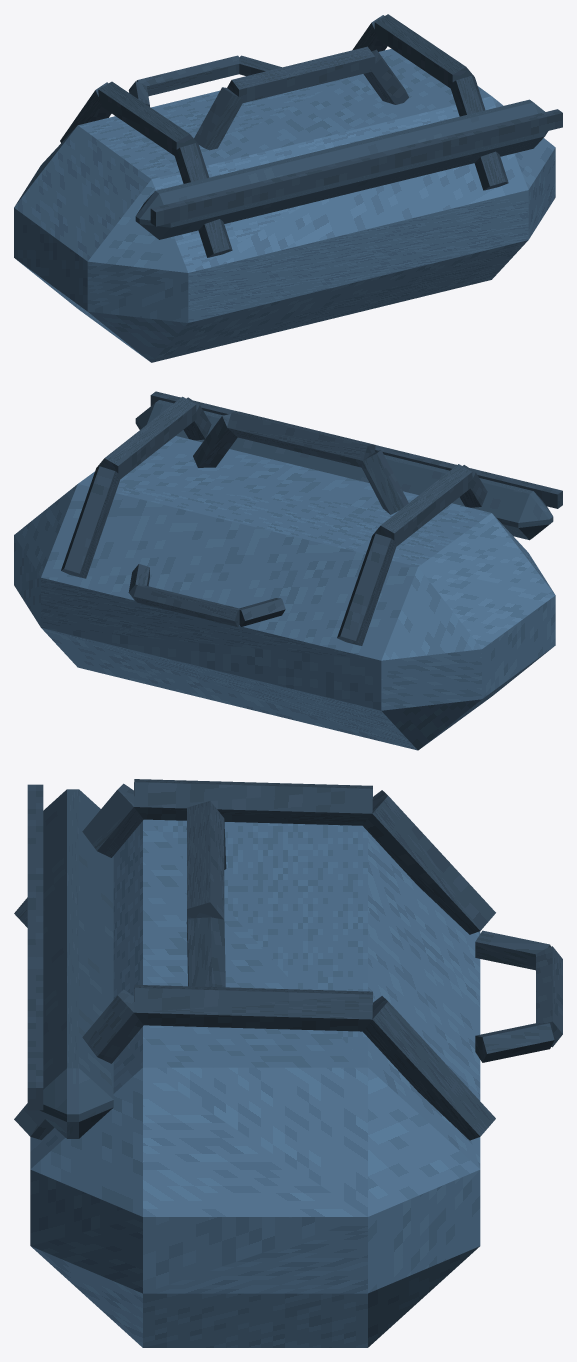
The model's file is dry_duffelbag.glb.
3 renders of one model, top to bottom at view 1: azimuth 30°, elevation 25°; view 2: azimuth 150°, elevation 25°; view 3: azimuth 270°, elevation 25°, orthographic. The views are drawn at different scales.
Visible parts, largest first — view 1: block_bag shell, block_sealed roll closure, block_zipper, block_webbing strap 1 (×2), block_webbing strap 2 (×2), block_bridging grab handle 1, block_carry handle 1, block_bridging grab handle 0, block_webbing strap 0 (×2), block_bridging grab handle 2, block_carry handle 2; view 2: block_bag shell, block_sealed roll closure, block_webbing strap 0 (×2), block_webbing strap 1 (×2), block_bridging grab handle 1, block_zipper, block_carry handle 1, block_bridging grab handle 0, block_bridging grab handle 2, block_webbing strap 2 (×2), block_carry handle 0, block_carry handle 2; view 3: block_bag shell, block_sealed roll closure, block_webbing strap 1 (×2), block_webbing strap 0 (×2), block_webbing strap 2 (×2), block_zipper, block_bridging grab handle 1, block_bridging grab handle 2, block_carry handle 2, block_carry handle 1, block_carry handle 0.
Boxes of the visible parts, box(x1,y1,x2,y2) form: block_bag shell: box(14, 49, 555, 362); block_sealed roll closure: box(135, 99, 548, 239); block_zipper: box(150, 109, 562, 226); block_webbing strap 1 (×2): box(98, 14, 474, 156); block_webbing strap 2 (×2): box(173, 75, 508, 257); block_bridging grab handle 1: box(227, 46, 375, 102); block_carry handle 1: box(136, 55, 239, 96); block_bridging grab handle 0: box(194, 87, 244, 150); block_webbing strap 0 (×2): box(60, 15, 387, 142); block_bridging grab handle 2: box(363, 49, 408, 104); block_carry handle 2: box(239, 55, 281, 76); block_bag shell: box(14, 436, 555, 750); block_sealed roll closure: box(135, 400, 553, 540); block_webbing strap 0 (×2): box(61, 466, 397, 645); block_webbing strap 1 (×2): box(96, 396, 472, 547); block_bridging grab handle 1: box(227, 411, 375, 467); block_zipper: box(150, 391, 562, 508); block_carry handle 1: box(133, 585, 239, 626); block_bridging grab handle 0: box(362, 450, 408, 514); block_bridging grab handle 2: box(193, 414, 237, 467); block_webbing strap 2 (×2): box(183, 397, 487, 507); block_carry handle 0: box(239, 598, 285, 626); block_carry handle 2: box(128, 564, 149, 601); block_bag shell: box(30, 819, 480, 1347); block_sealed roll closure: box(36, 789, 113, 1138); block_webbing strap 1 (×2): box(134, 779, 372, 1031); block_webbing strap 0 (×2): box(363, 790, 495, 1140); block_webbing strap 2 (×2): box(14, 783, 143, 1139); block_zipper: box(27, 784, 43, 1110); block_bridging grab handle 1: box(187, 801, 224, 919); block_bridging grab handle 2: box(186, 917, 225, 987); block_carry handle 2: box(475, 1023, 554, 1062); block_carry handle 1: box(536, 946, 562, 1047); block_carry handle 0: box(475, 930, 550, 970).
Size of the model in its own units: 0.438 by 0.2164 by 0.2914.
Materials: 1 (1 with a texture image).
